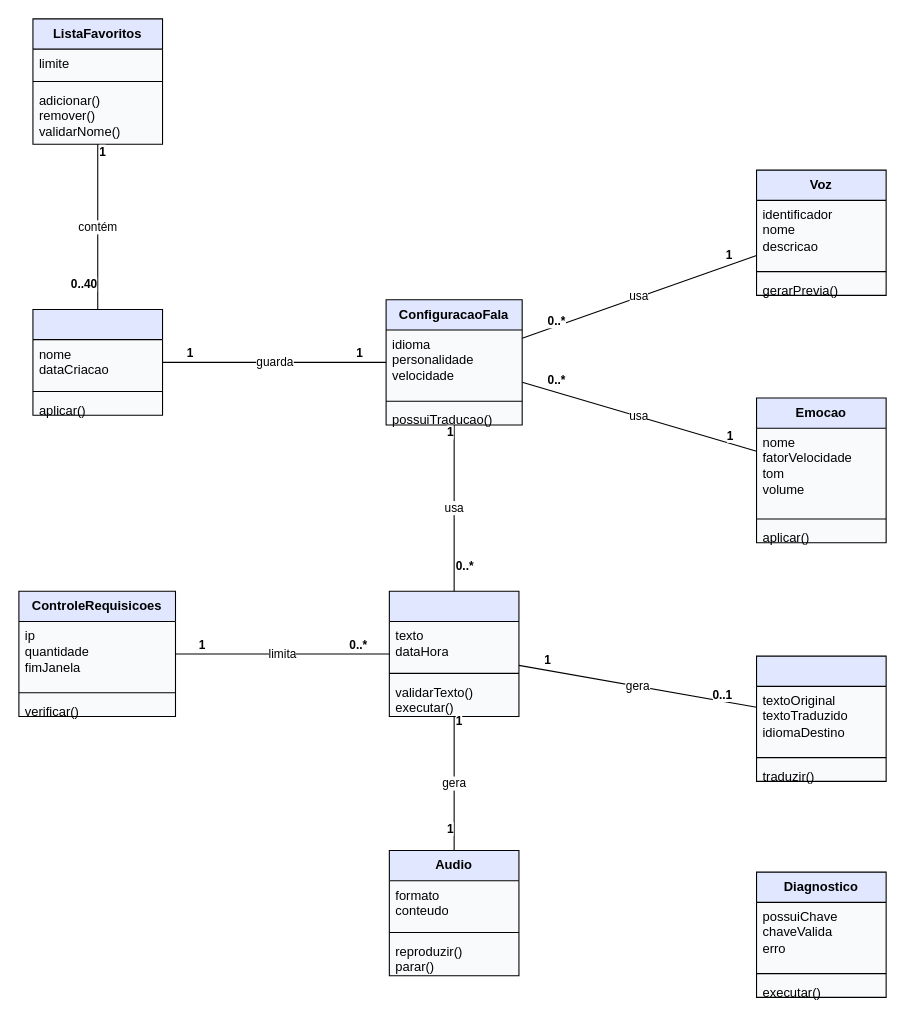
The diagram is 905 pixels wide and 1028 high, and some of its shapes have lost their labels. Here are the shapes that lost their labels. From the top down, the box of each, then its label:
(32, 308, 163, 415): Favorito
(388, 590, 519, 717): SolicitacaoFala
(755, 655, 886, 781): Traducao
